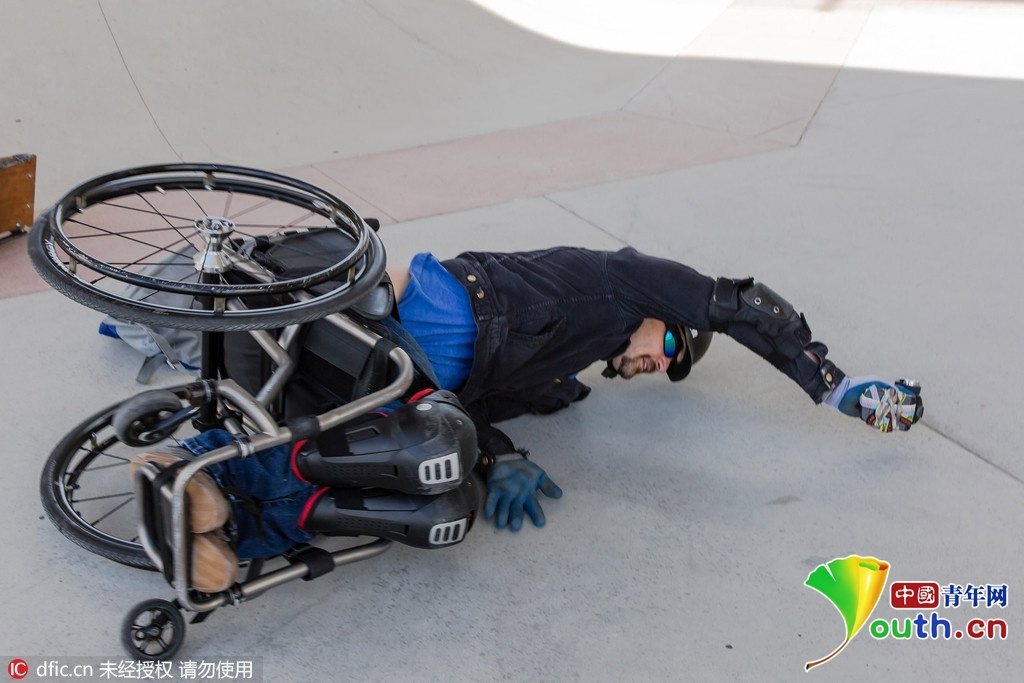falling: (104, 207, 914, 558)
